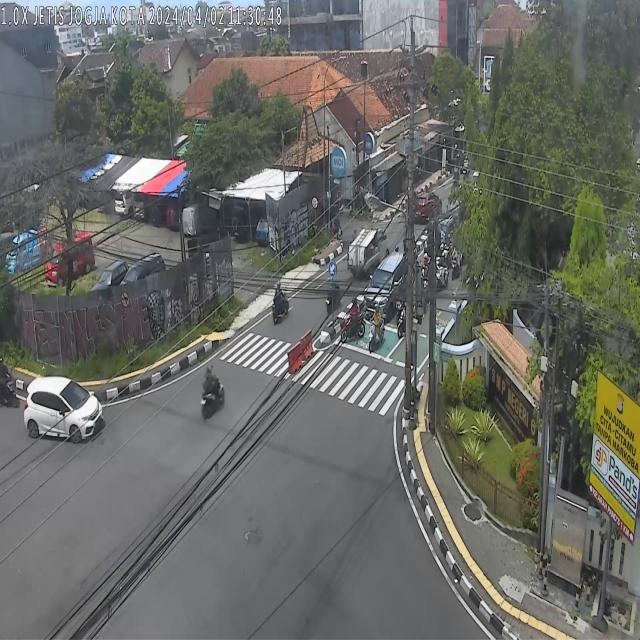car: (24, 376, 103, 442), (365, 252, 406, 319), (413, 191, 441, 222)
motorcycle: (200, 364, 224, 420), (340, 296, 367, 343), (0, 355, 20, 409), (368, 303, 385, 352), (272, 278, 289, 324), (326, 281, 342, 311), (436, 252, 448, 290), (451, 242, 462, 280)
truck: (348, 228, 380, 276)
